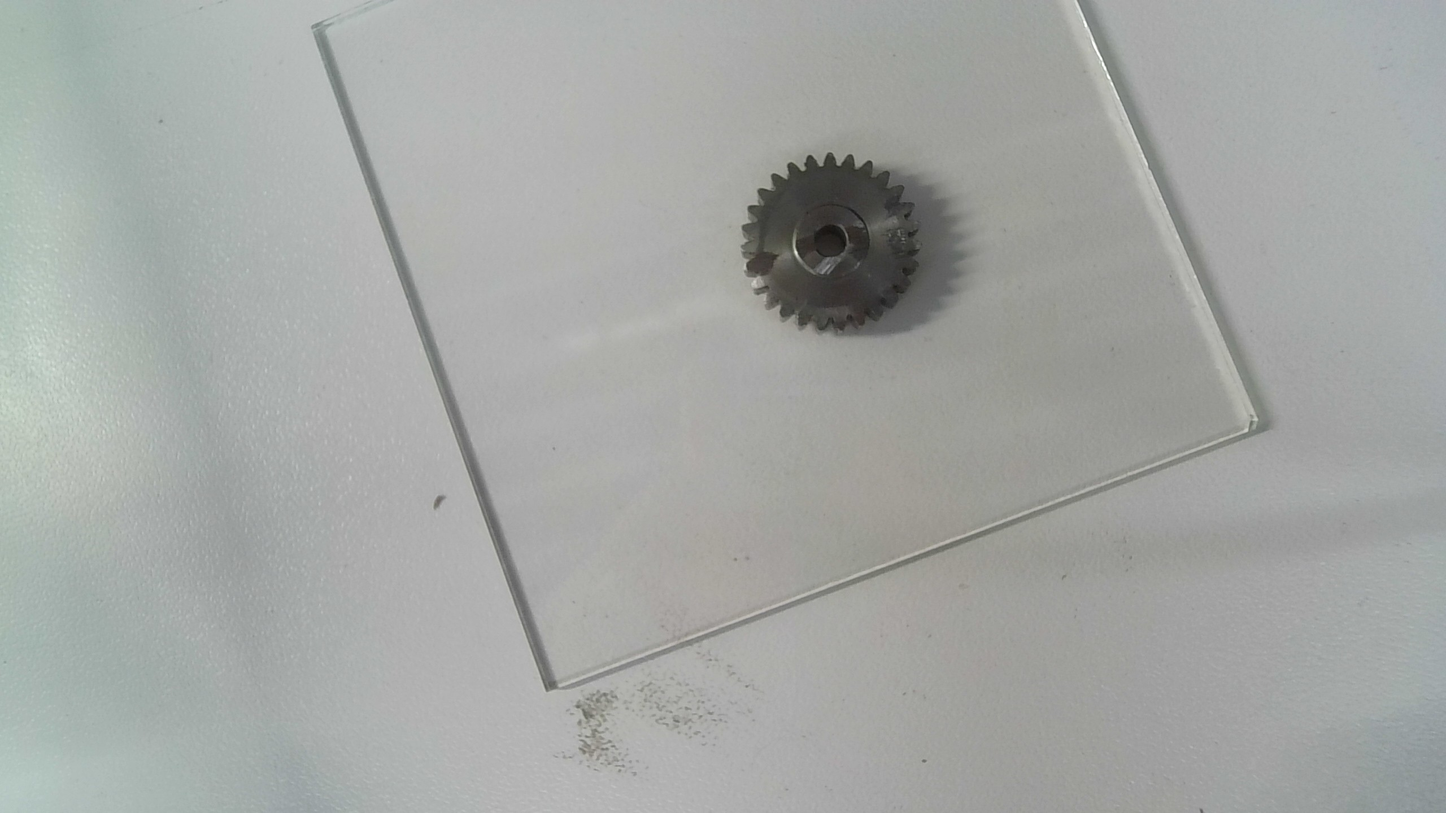gear: (737, 150, 925, 339)
